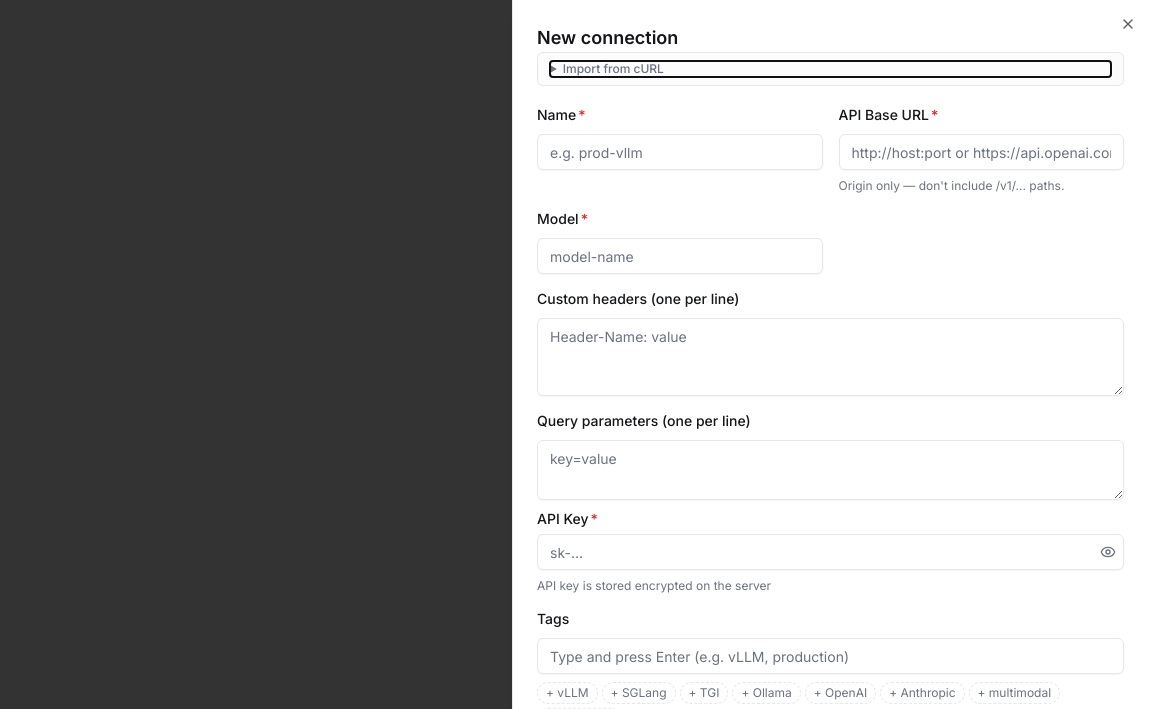
it: ConnectionSheet — Discover region › zero-result banner: details list evidence + failed probes (always-open)
In the field labelled "API Base URL*": (981, 152) left=838, top=134, right=1124, bottom=170, type "http://x.test"
(page scrolled)
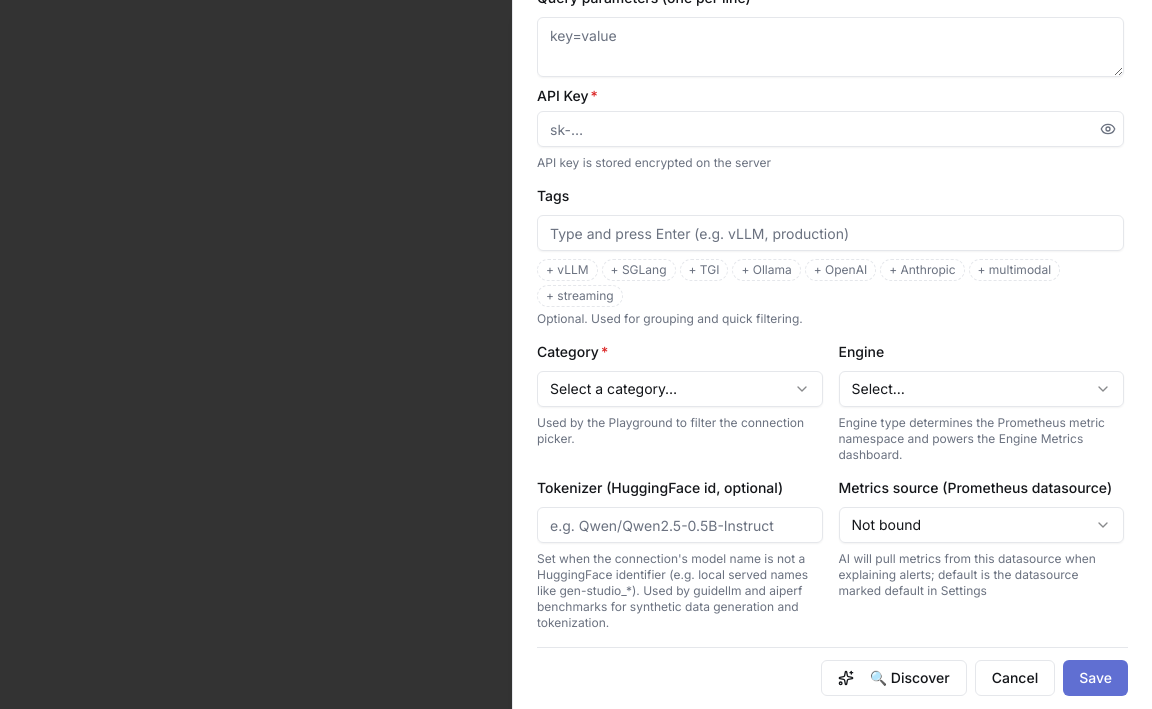
Click the button "🔍 Discover": click(894, 678) left=821, top=660, right=967, bottom=696
(page scrolled)
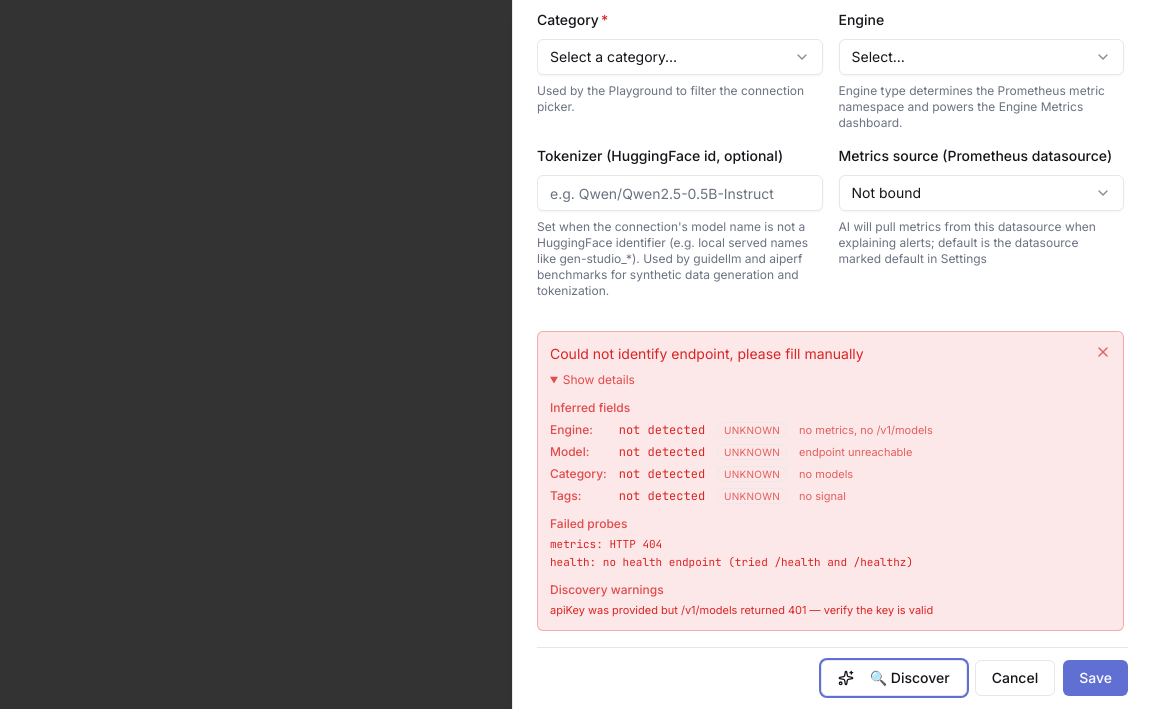
Expected: the text "Could not identify endpoint, please fill manually" is shown, left=550, top=345, right=864, bottom=362
Expected: the text "no metrics, no /v1/models" is shown, left=799, top=423, right=933, bottom=437
Expected: the list item "metrics: HTTP 404" is shown, left=550, top=537, right=662, bottom=551
